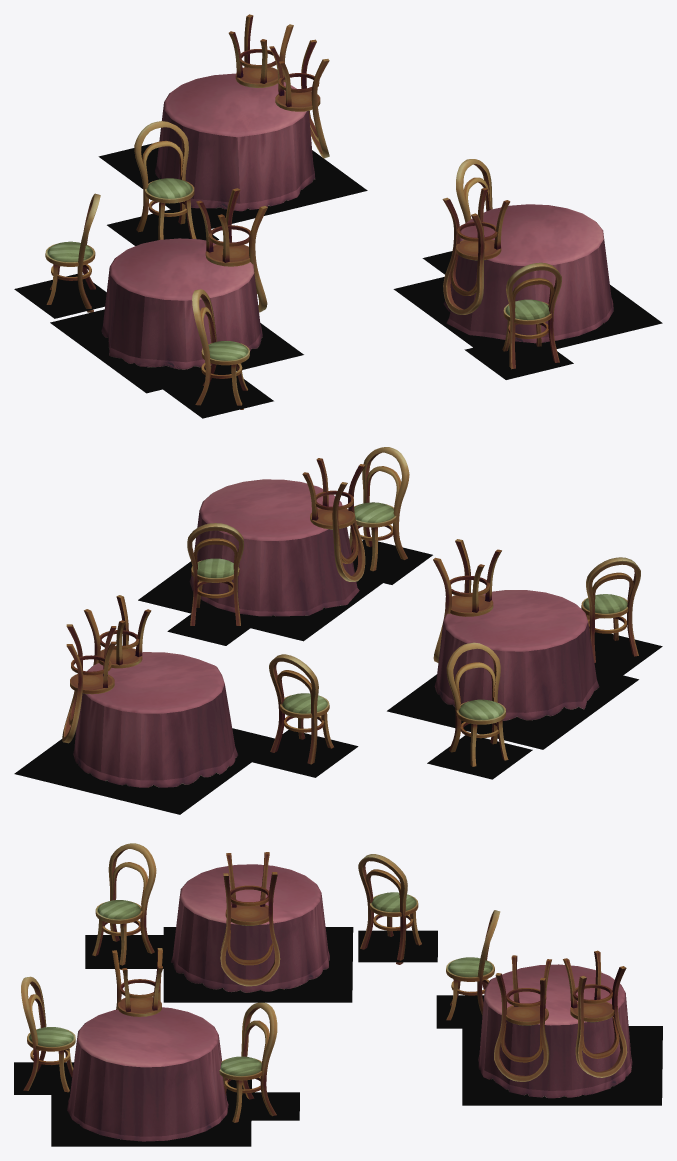
File: K1_oldtable.FBX
3 views of the same model, one above another, from view 1: azimuth 30°, elevation 25°; view 2: azimuth 150°, elevation 25°; view 3: azimuth 270°, elevation 25° (orthographic). The views are drawn at different scales.
Visible parts, largest first — view 1: oldtable001, oldtable009, oldtable005, zhuoyi_yy_03, zhuoyi_yy_07, zhuoyi_yy_02, oldtable004, oldtable006, oldtable007, oldtable010, oldtable012, zhuoyi_yy_04 (+7 smaller); view 2: oldtable001, oldtable005, oldtable009, zhuoyi_yy_07, zhuoyi_yy_03, zhuoyi_yy_02, oldtable011, oldtable004, oldtable007, oldtable006, oldtable012, oldtable008 (+8 smaller); view 3: oldtable005, oldtable009, oldtable001, zhuoyi_yy_07, zhuoyi_yy_03, zhuoyi_yy_02, oldtable010, oldtable002, oldtable012, oldtable011, oldtable003, oldtable008 (+8 smaller).
Part boxes in pixels (x1,y1,x2,y2): oldtable001: (155, 73, 315, 211); oldtable009: (101, 238, 262, 369); oldtable005: (443, 204, 613, 343); zhuoyi_yy_03: (50, 309, 303, 393); zhuoyi_yy_07: (98, 143, 367, 228); zhuoyi_yy_02: (393, 277, 662, 348); oldtable004: (134, 121, 196, 239); oldtable006: (442, 187, 510, 314); oldtable007: (502, 262, 561, 369); oldtable010: (196, 188, 267, 312); oldtable012: (192, 289, 249, 409); zhuoyi_yy_04: (159, 369, 273, 418); oldtable001: (73, 652, 237, 787); oldtable005: (189, 479, 359, 616); oldtable009: (434, 590, 599, 720); zhuoyi_yy_07: (14, 728, 274, 814); zhuoyi_yy_03: (387, 672, 638, 749); zhuoyi_yy_02: (138, 561, 382, 641); oldtable011: (446, 642, 508, 766); oldtable004: (269, 654, 333, 764); oldtable007: (349, 447, 409, 571); oldtable006: (302, 458, 365, 581); oldtable012: (581, 557, 640, 662); oldtable008: (187, 523, 243, 625); oldtable005: (67, 1007, 228, 1141); oldtable009: (171, 864, 329, 992); oldtable001: (478, 964, 632, 1098); zhuoyi_yy_07: (462, 1026, 662, 1105); zhuoyi_yy_03: (163, 927, 353, 1002); zhuoyi_yy_02: (51, 1079, 251, 1146); oldtable010: (220, 852, 280, 986); oldtable002: (563, 950, 627, 1077); oldtable012: (92, 843, 156, 969); oldtable011: (358, 854, 421, 964); oldtable003: (494, 955, 551, 1081); oldtable008: (219, 1002, 277, 1122).
Bounding box in the file's own units: 5.46 × 1.49 × 6.82.
